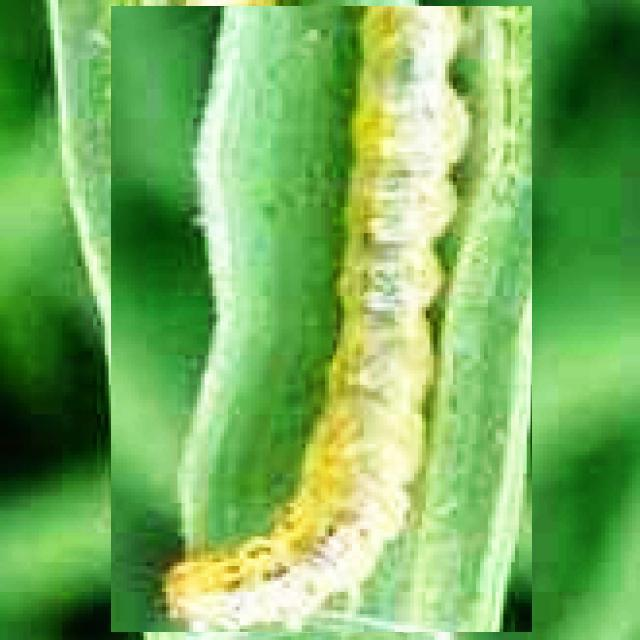leaf-folder: (111, 6, 532, 632)
